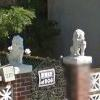Statue: (56, 21, 99, 75)
